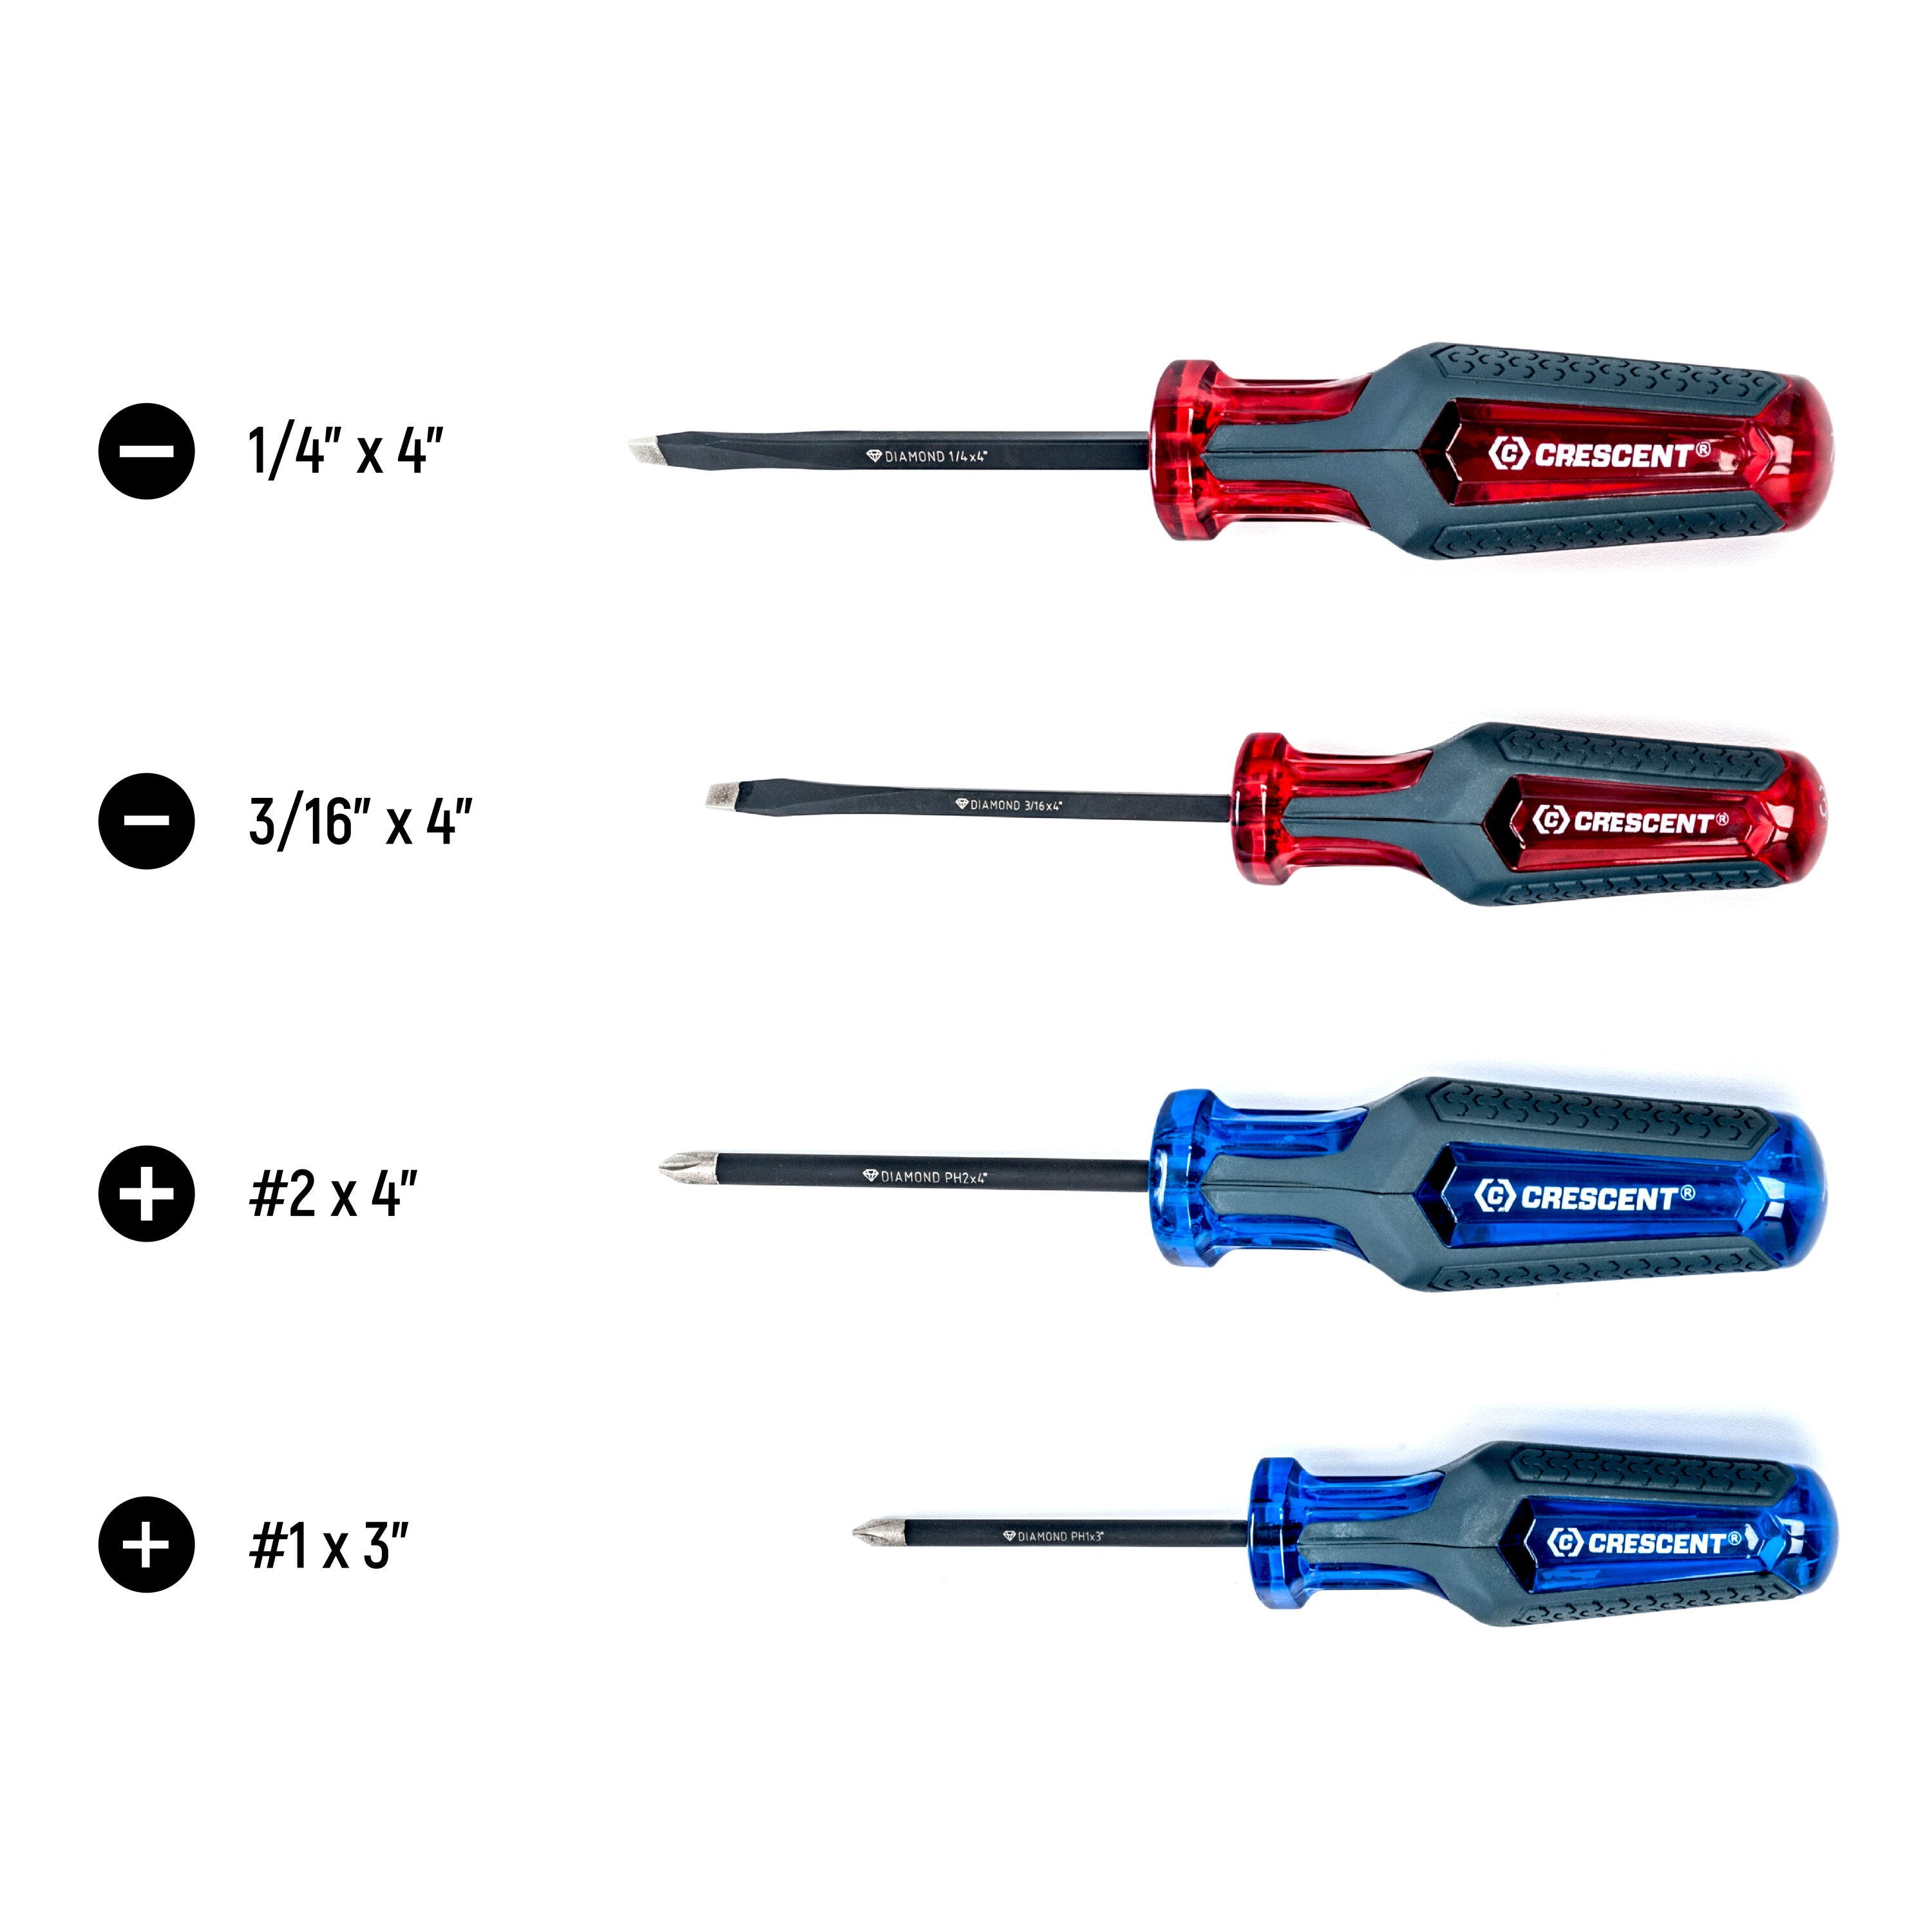screwdriver: (632, 338, 1836, 561), (655, 1070, 1822, 1297), (702, 720, 1835, 909), (833, 1433, 1856, 1635)
